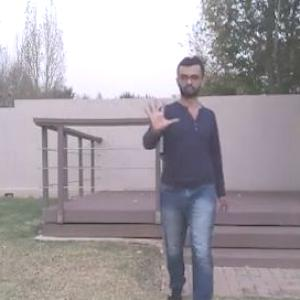follow_hand: (141, 92, 181, 136)
